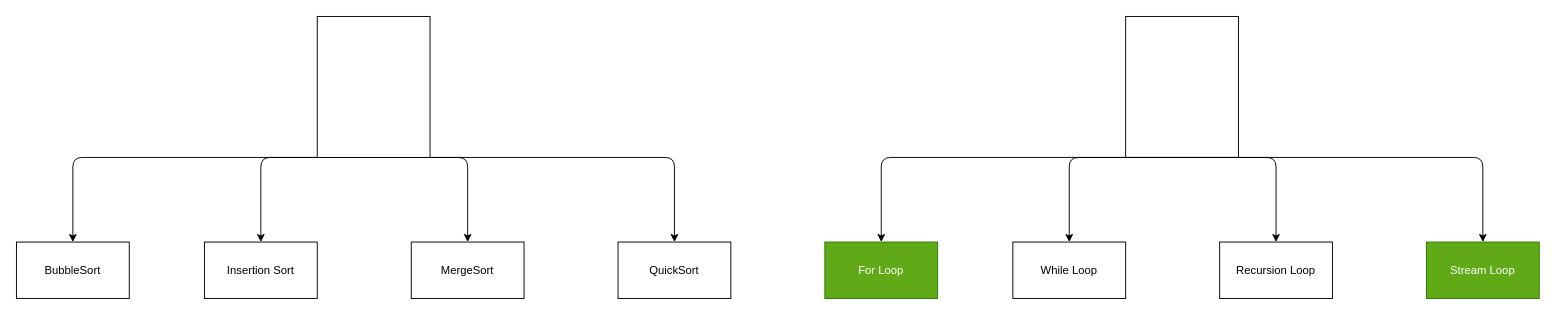
The diagram is 1556 pixels wide and 315 high, and some of its shapes have lost their labels. The shapes that lost their labels are listed below. From the top down, each one's centre as x and y in pixels, then its label:
At point (373, 86): "Sorting Class arr animations result toString()".
At point (1181, 86): "Fibonacci Class arr result toString()".
